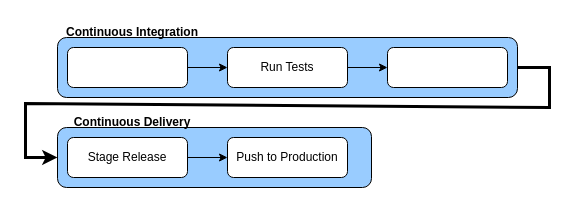
This 576x205 diagram has some shape labels left out. Each missing label, with the centre of its shape:
"Build code" goes at (127,67).
"Create Artifact" goes at (447,67).
